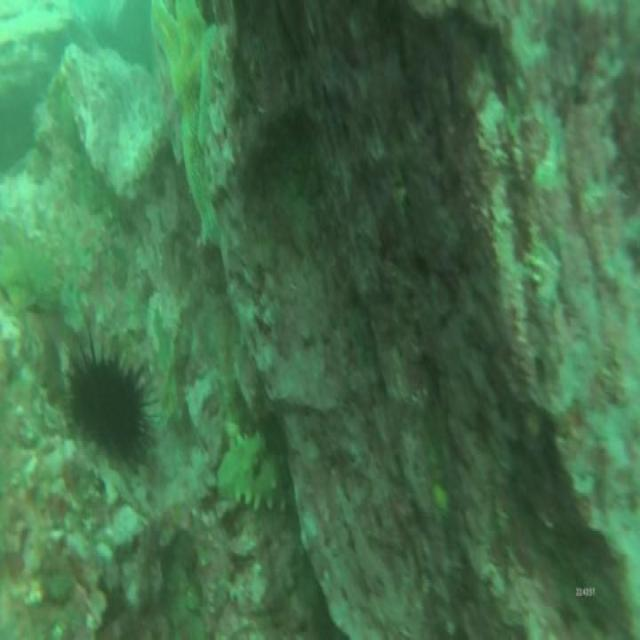echinus: (62, 329, 156, 479)
holothurian: (219, 430, 293, 524)
starfish: (147, 2, 226, 245)
